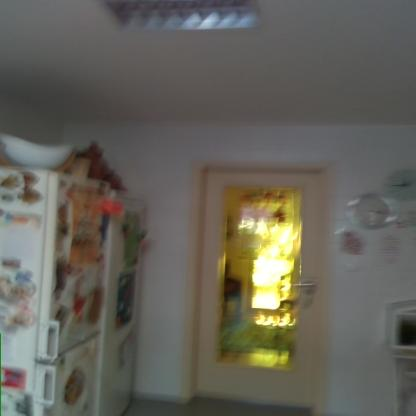closed: (174, 148, 346, 403)
